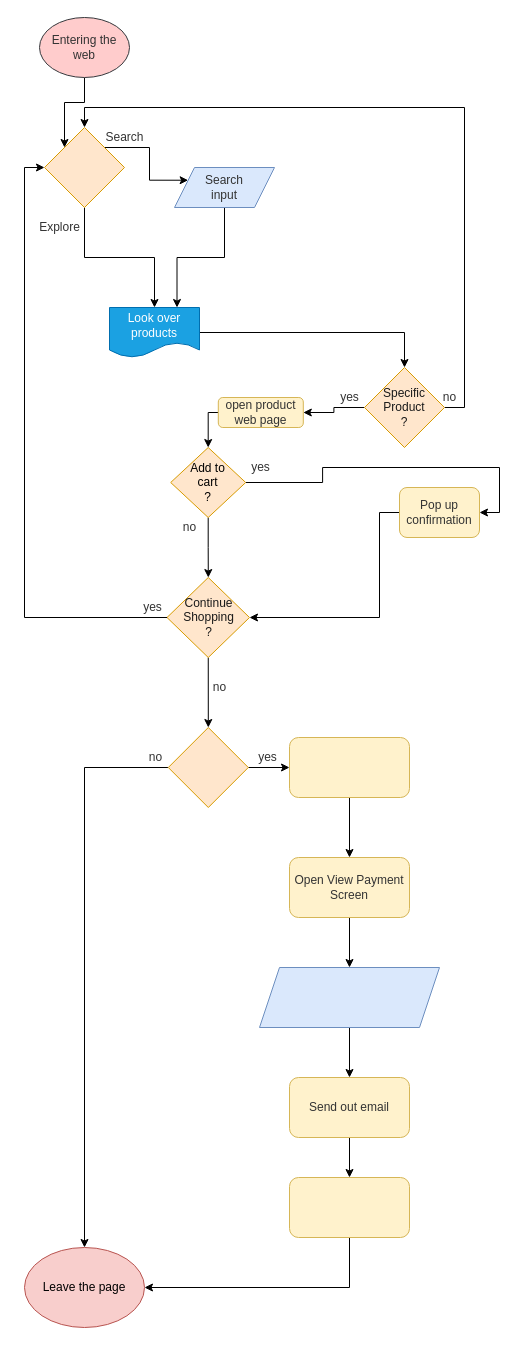
The diagram is 525 pixels wide and 1345 high, and some of its shapes have lost their labels. Each missing label, with the box of its shape:
checkout ?: (167, 726, 248, 808)
Open up confimation screen.: (288, 1176, 410, 1238)
Open View Cart screen: (288, 736, 410, 798)
Search or explore: (44, 126, 124, 208)
User input Payment infromation: (258, 966, 440, 1028)
